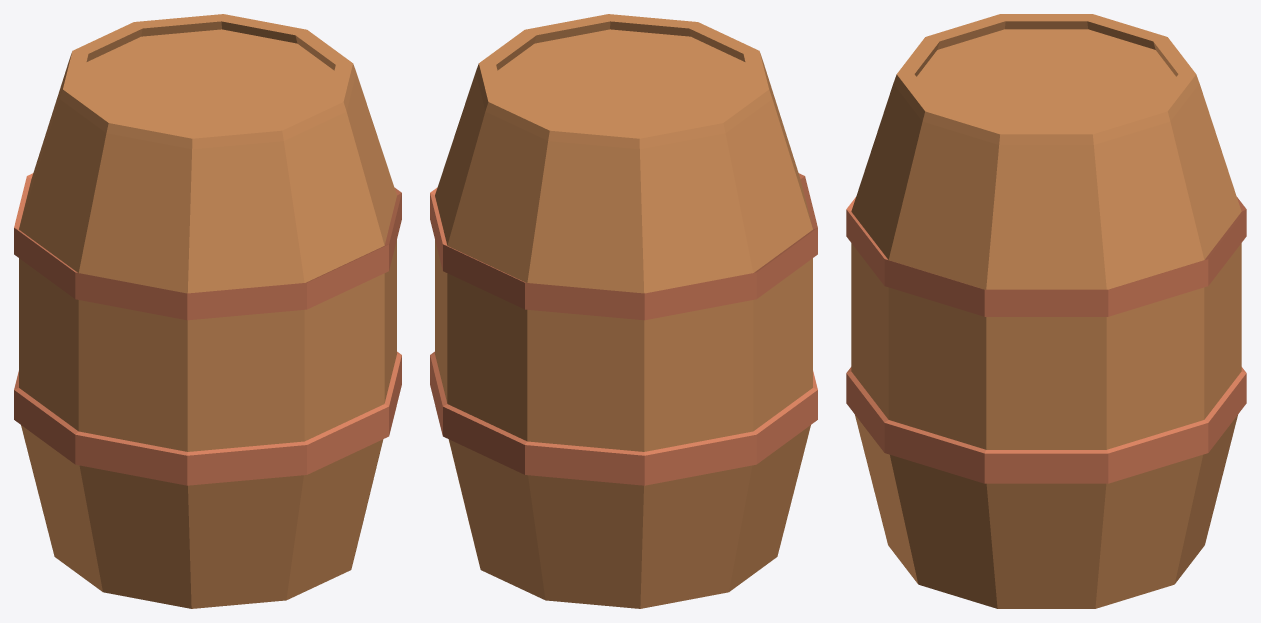
The model's file is ENV_Barrel01_Placeholder02.fbx.
3 renders of one model, left to right at view 1: azimuth 30°, elevation 25°; view 2: azimuth 150°, elevation 25°; view 3: azimuth 270°, elevation 25°, orthographic.
Parts seen in each view (by area): view 1: Circle.001; view 2: Circle.001; view 3: Circle.001.
Boxes of the visible parts, <box> form: Circle.001: <box>14,14,401,608</box>; Circle.001: <box>430,14,817,608</box>; Circle.001: <box>846,14,1246,608</box>.
Size of the model in its own units: 81.49 by 77.5 by 106.
